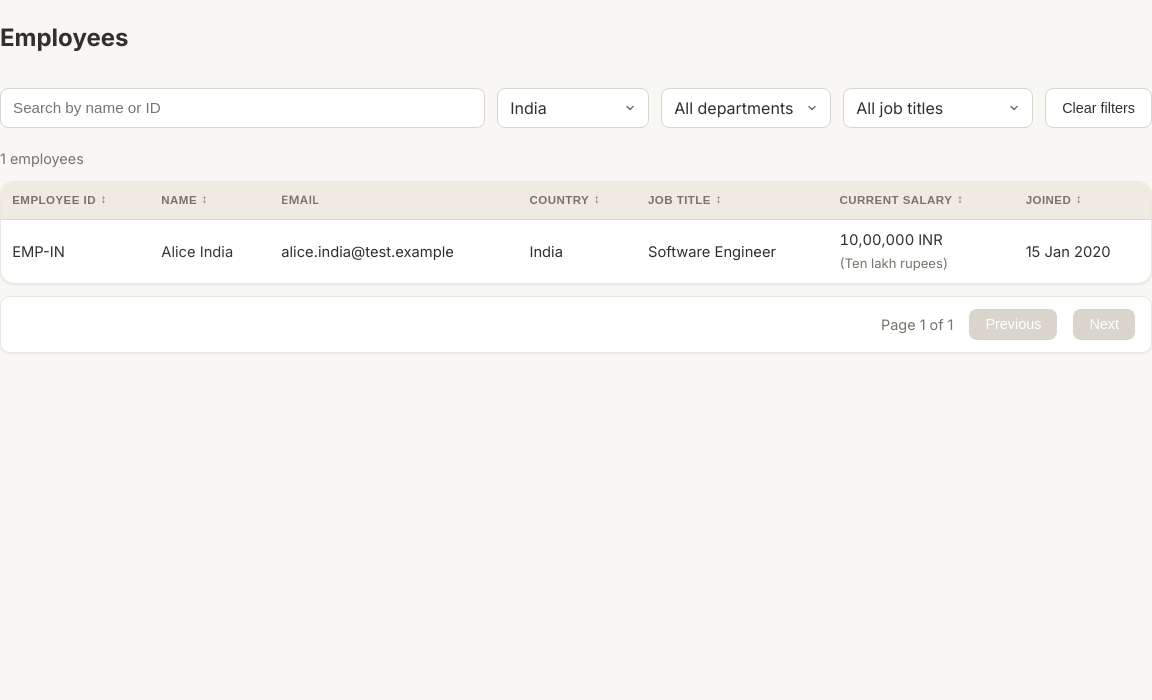
Test case: EmployeeDrawer salary update › saves a new salary and shows the updated amount and history entry
This screenshot has width=1152, height=700.
Click the button "Alice India". click: (197, 252)
box: [161,240,233,263]
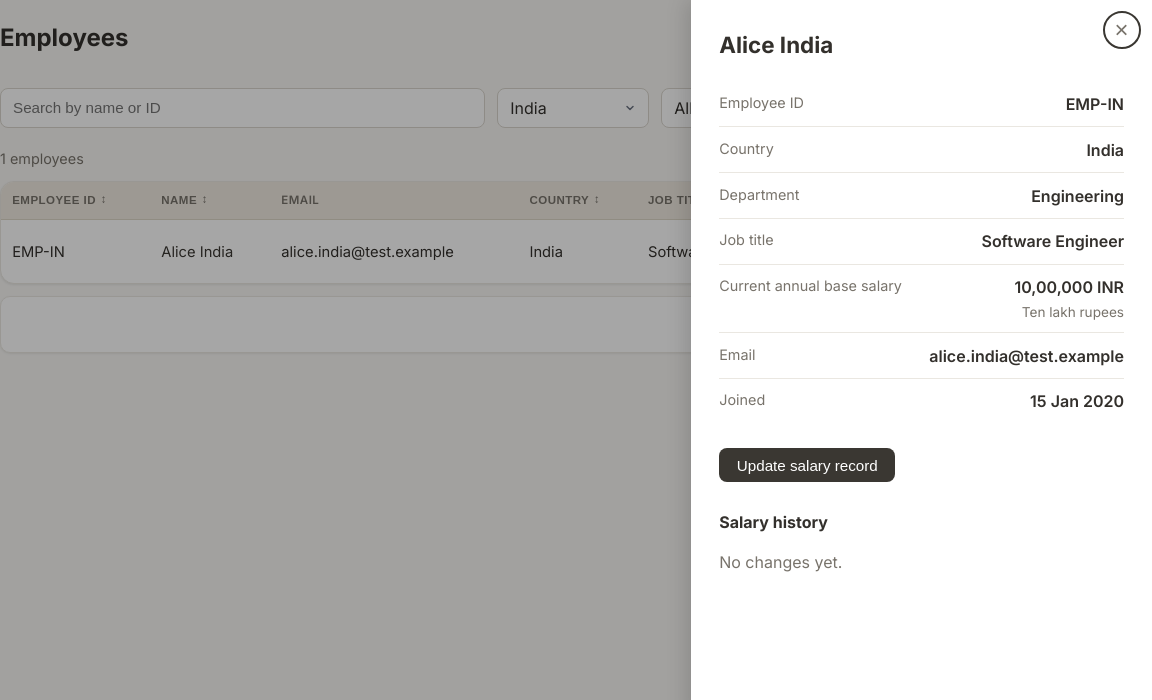
Expected: the text "10,00,000 INR" is shown, [1014,277,1124,297]
Click the button "Update salary record". click: (807, 465)
box: [719,448,895,482]
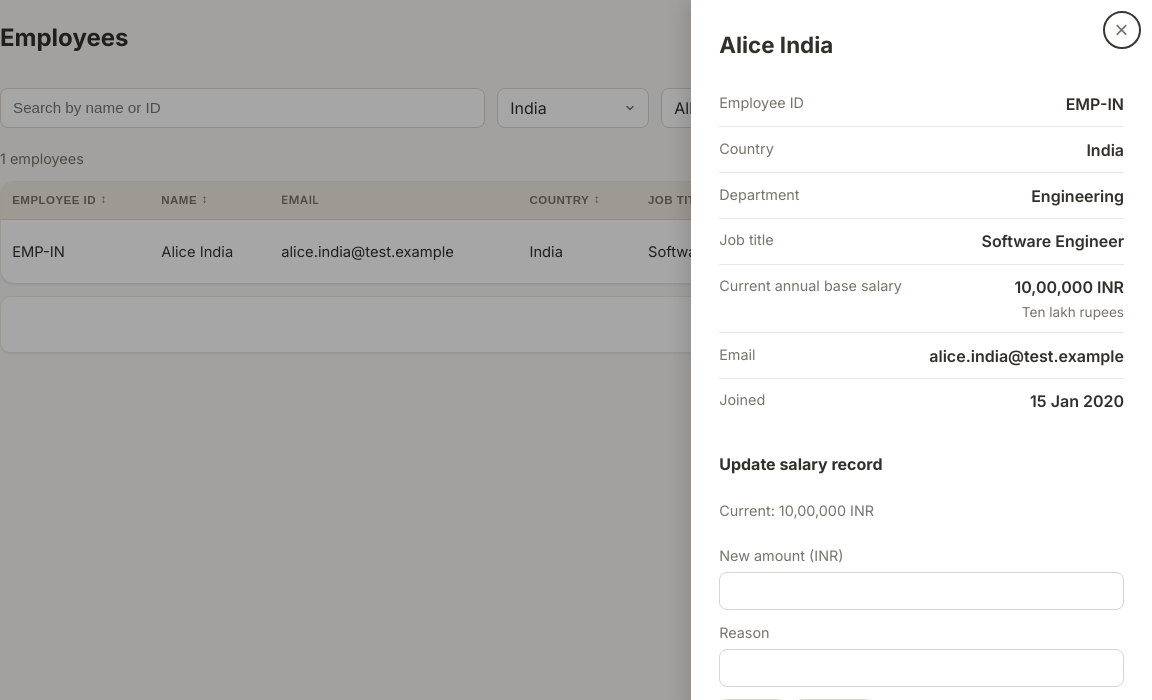
Type "1200000" into the number field labelled "New amount (INR)". click: (922, 591)
box: [719,572,1124,610]
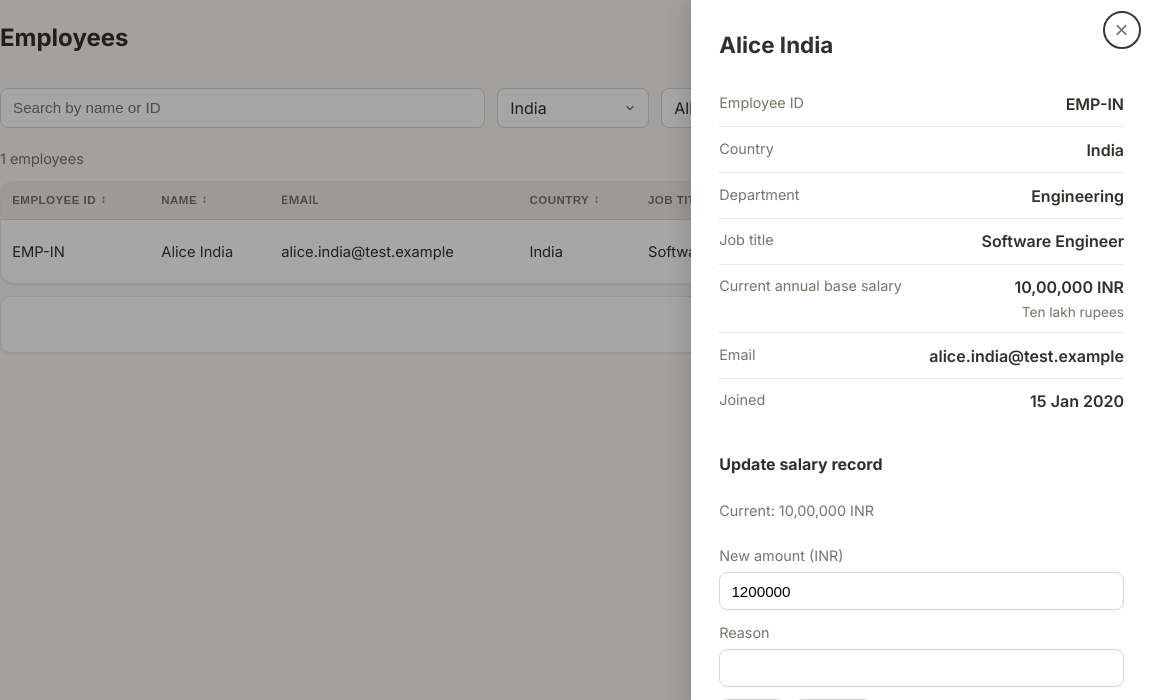
Type "Annual raise" into the field labelled "Reason". click: (922, 668)
box: [719,649,1124,687]
(page scrolled)
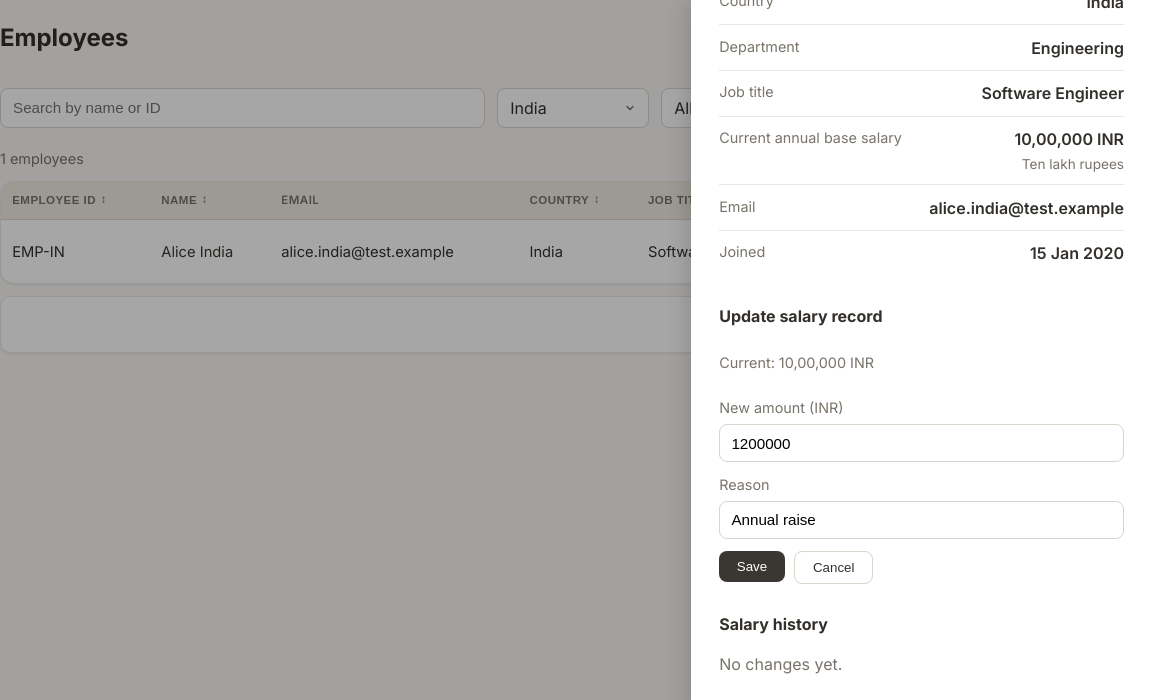
Click the button "Save". click: (752, 567)
box: [719,551,785,582]
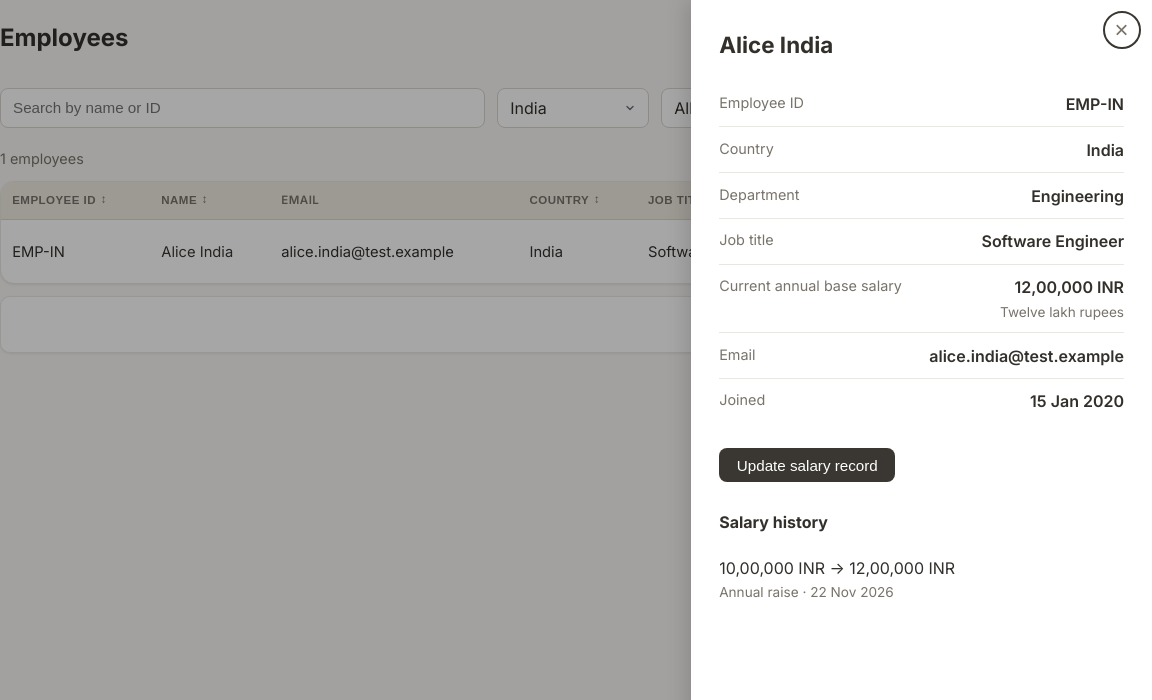
Expected: the text "12,00,000 INR" is shown, [1015,277,1124,297]
Expected: the text "Annual raise · 22 Nov 2026" is shown, [719,584,894,600]
Expected: the text "10,00,000 INR → 12,00,000 INR" is shown, [719,558,955,578]
